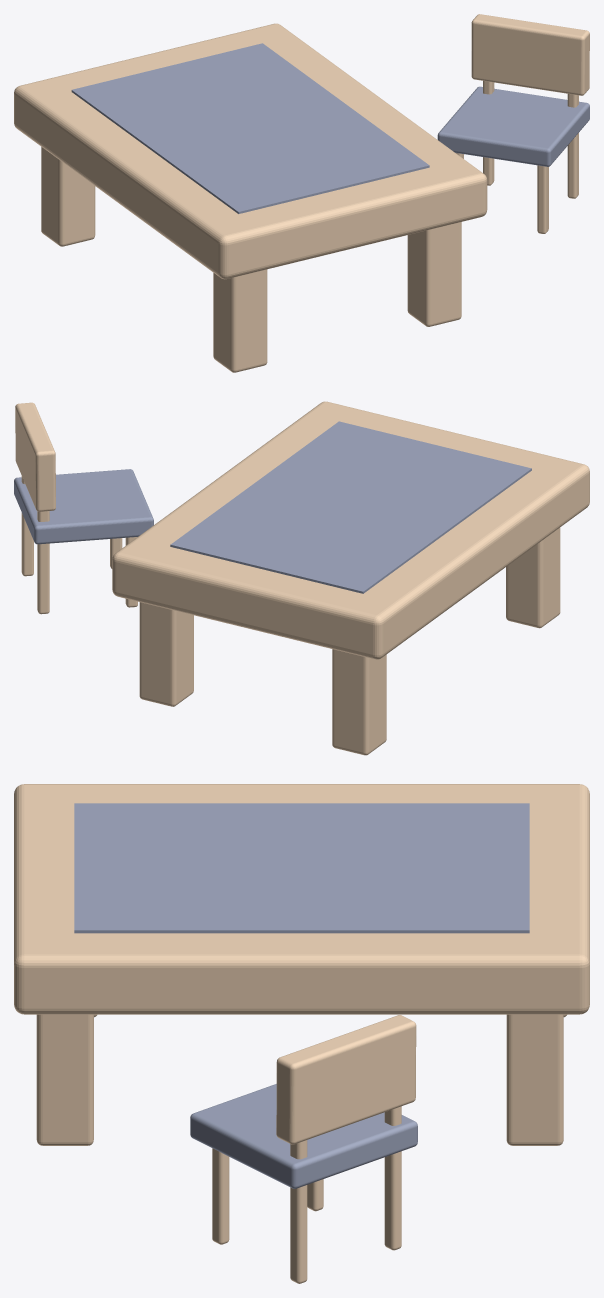
File: tutorial_blender.glb
3 views of the same model, one above another, from view 1: azimuth 30°, elevation 25°; view 2: azimuth 150°, elevation 25°; view 3: azimuth 270°, elevation 25° (orthographic). The views are drawn at different scales.
Parts seen in each view (by area): view 1: Cube, 立方体.004, 立方体.005, 立方体, 立方体.001, 立方体.003, 立方体.007, 立方体.009; view 2: Cube, 立方体.004, 立方体.003, 立方体.002, 立方体.001, 立方体.005, 立方体.006, 立方体.007; view 3: Cube, 立方体.005, 立方体.004, 立方体.002, 立方体, 立方体.007, 立方体.006, 立方体.009.
Part boxes in pixels (bbox=[...]): Cube: bbox=[14, 23, 487, 279]; 立方体.004: bbox=[437, 86, 589, 166]; 立方体.005: bbox=[471, 14, 589, 95]; 立方体: bbox=[407, 222, 461, 326]; 立方体.001: bbox=[213, 269, 267, 372]; 立方体.003: bbox=[41, 147, 95, 246]; 立方体.007: bbox=[567, 94, 578, 198]; 立方体.009: bbox=[537, 165, 548, 233]; Cube: bbox=[112, 401, 589, 659]; 立方体.004: bbox=[14, 469, 153, 544]; 立方体.003: bbox=[332, 649, 386, 755]; 立方体.002: bbox=[139, 602, 193, 706]; 立方体.001: bbox=[506, 527, 560, 628]; 立方体.005: bbox=[15, 402, 55, 511]; 立方体.006: bbox=[37, 511, 49, 614]; 立方体.007: bbox=[21, 476, 33, 576]; Cube: bbox=[14, 784, 589, 1014]; 立方体.005: bbox=[276, 1015, 416, 1144]; 立方体.004: bbox=[190, 1084, 417, 1188]; 立方体.002: bbox=[506, 1014, 563, 1145]; 立方体: bbox=[36, 1014, 93, 1145]; 立方体.007: bbox=[290, 1140, 307, 1283]; 立方体.006: bbox=[384, 1106, 401, 1250]; 立方体.009: bbox=[212, 1148, 229, 1244].
Size of what is drawn, in the model's own units: 4.09 by 1.4 by 3.18.
